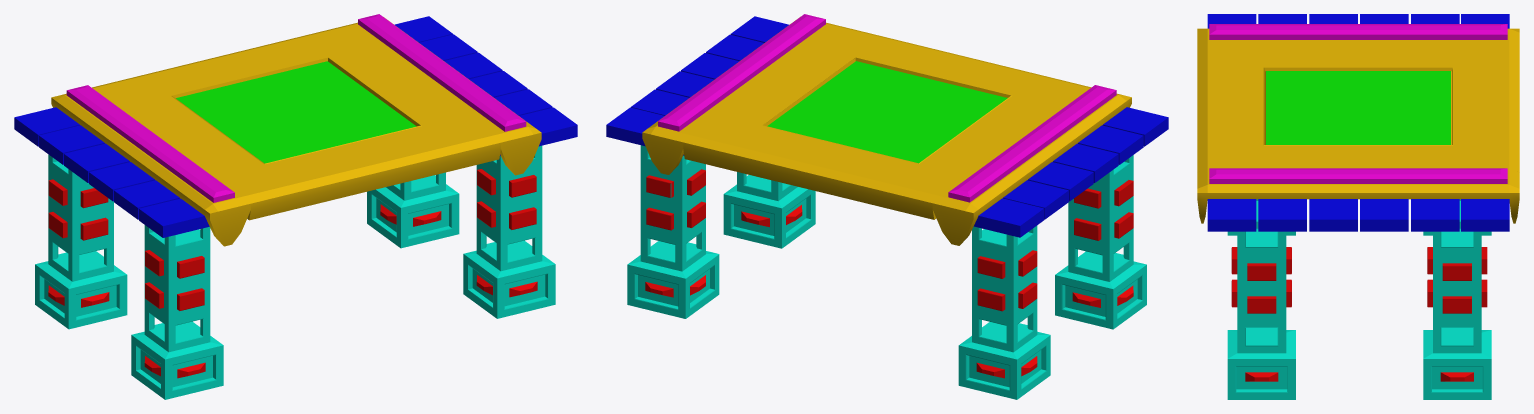
The model's file is WorkbenchV2UVID.fbx.
3 renders of one model, left to right at view 1: azimuth 30°, elevation 25°; view 2: azimuth 150°, elevation 25°; view 3: azimuth 270°, elevation 25°, orthographic.
Parts seen in each view (by area): view 1: TableTop, Legs, Plank.005, Plank, Plank.002, Plank.003, Plank.001, Plank.004; view 2: TableTop, Legs, Plank.004, Plank.003, Plank.005, Plank.002, Plank.001, Plank; view 3: TableTop, Legs, Plank.005, Plank.004, Plank, Plank.001, Plank.002, Plank.003.
Boxes of the visible parts, x1,y1,x2,y2 form: TableTop: (51, 14, 541, 246); Legs: (35, 145, 555, 399); Plank.005: (139, 107, 577, 237); Plank: (39, 34, 477, 164); Plank.002: (89, 71, 527, 201); Plank.003: (114, 89, 552, 219); Plank.001: (64, 52, 502, 182); Plank.004: (14, 16, 452, 146); TableTop: (642, 14, 1131, 245); Legs: (627, 145, 1146, 399); Plank.004: (606, 107, 1044, 237); Plank.003: (706, 34, 1143, 164); Plank.005: (730, 16, 1168, 146); Plank.002: (681, 53, 1118, 182); Plank.001: (656, 71, 1093, 201); Plank: (631, 89, 1068, 219); TableTop: (1197, 24, 1519, 223); Legs: (1227, 199, 1491, 399); Plank.005: (1207, 14, 1256, 231); Plank.004: (1461, 14, 1509, 231); Plank: (1411, 14, 1459, 231); Plank.001: (1360, 14, 1408, 231); Plank.002: (1309, 14, 1357, 231); Plank.003: (1258, 14, 1306, 231).
Size of the model in its own units: 499 by 233 by 331.
